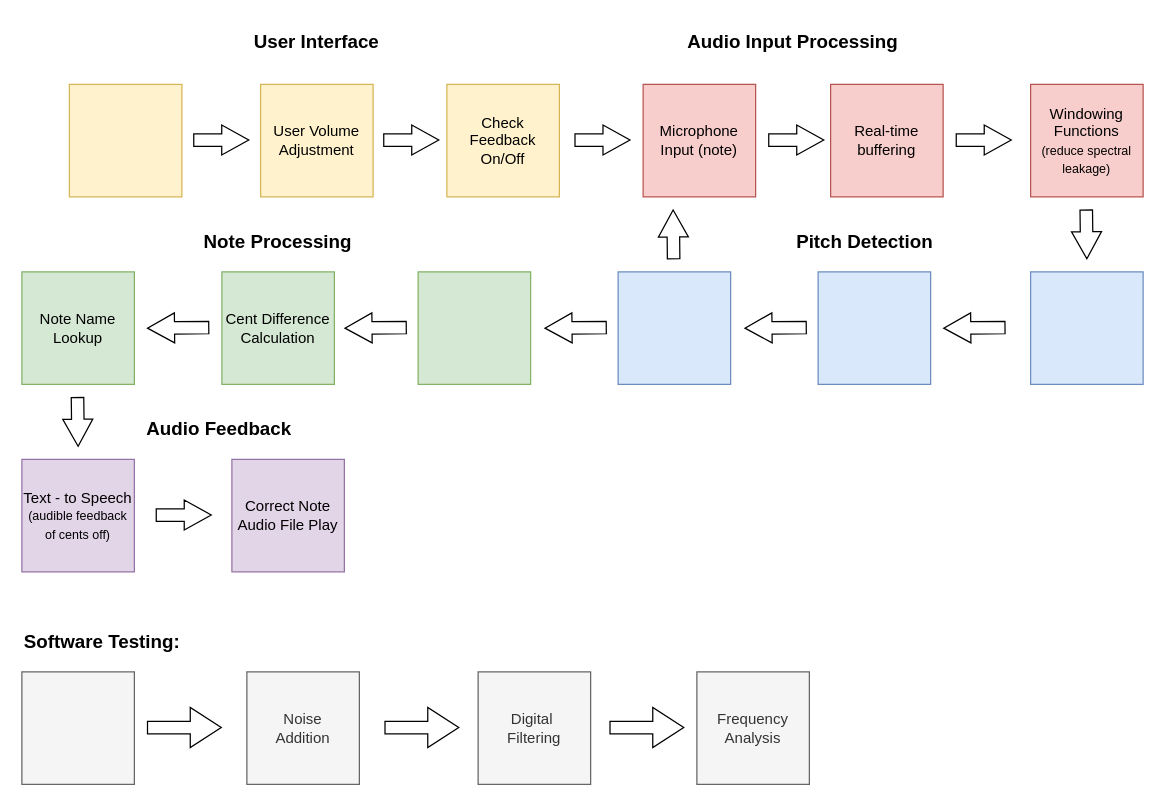
Image size: 1165x806. Some labels were removed from this diagram. Here are the shapes that lost their labels. From the top down, the centre of each, then its label:
the point at 125,140: User Note Selection
the point at 474,327: Frequency to Note Conversion
the point at 674,327: Signal Quality Check
the point at 874,327: Pitch Tracking
the point at 1086,327: Fundamental Frequency Estimation
the point at 77,727: Signal Generation
